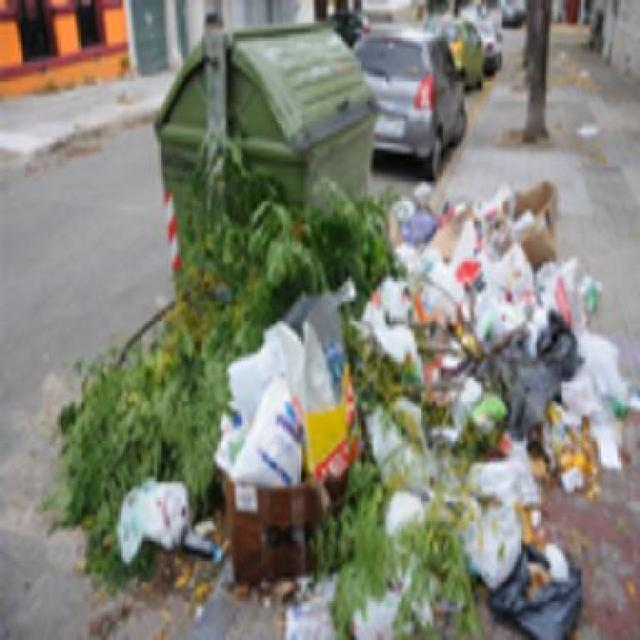garbage: (72, 185, 608, 638)
